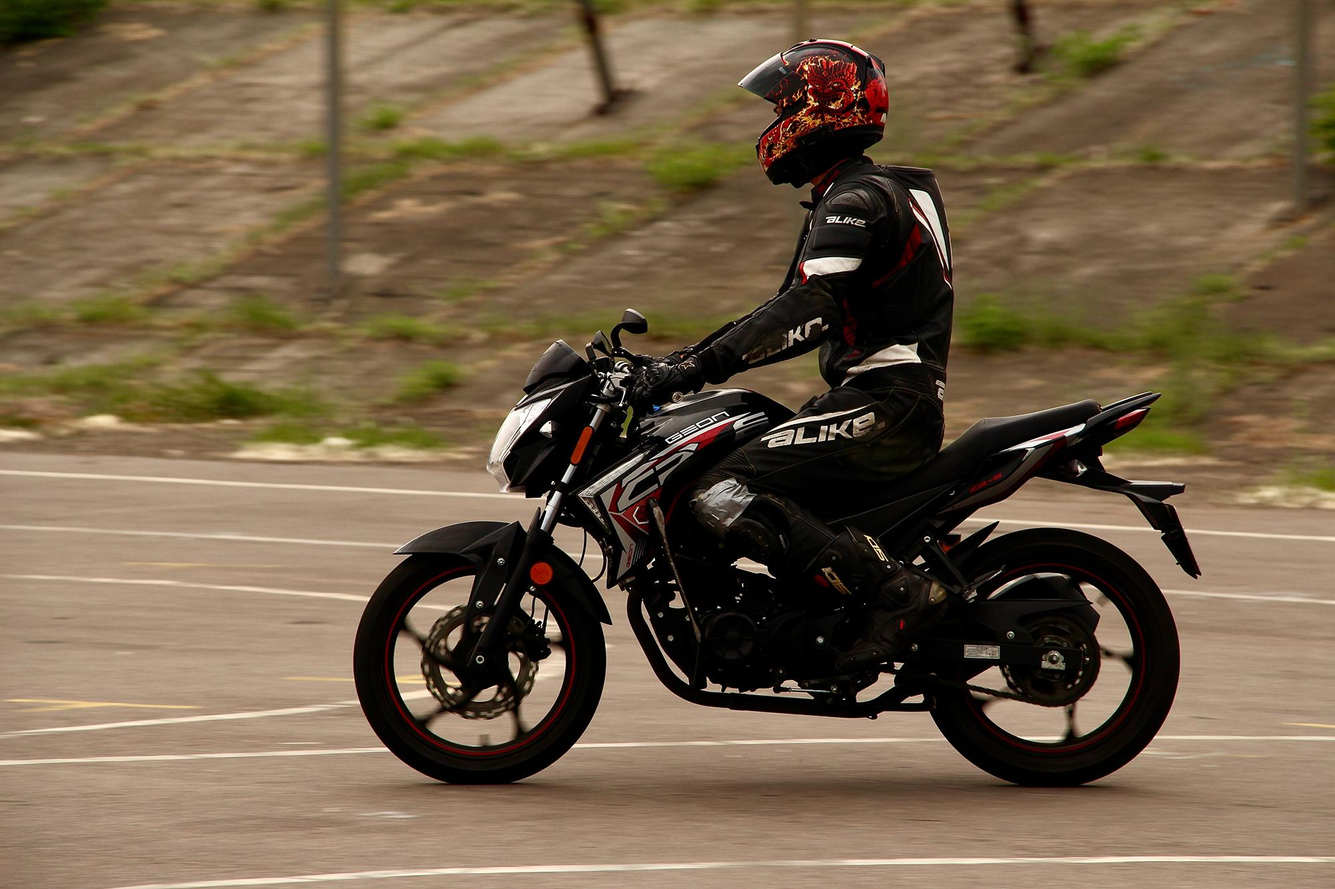helmet: (736, 37, 890, 189)
